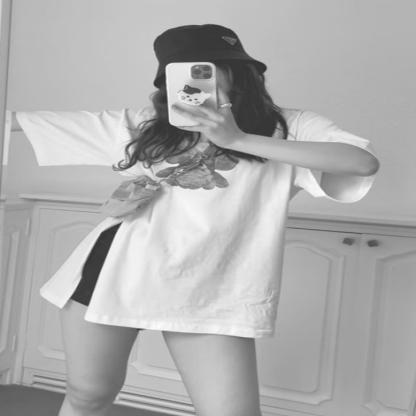dress: (12, 104, 384, 344)
jacket: (68, 216, 284, 328)
